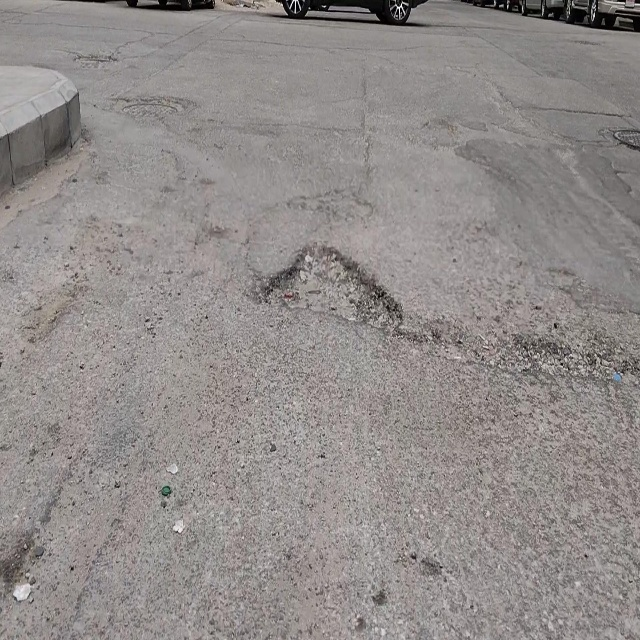pothole: (268, 236, 406, 334)
